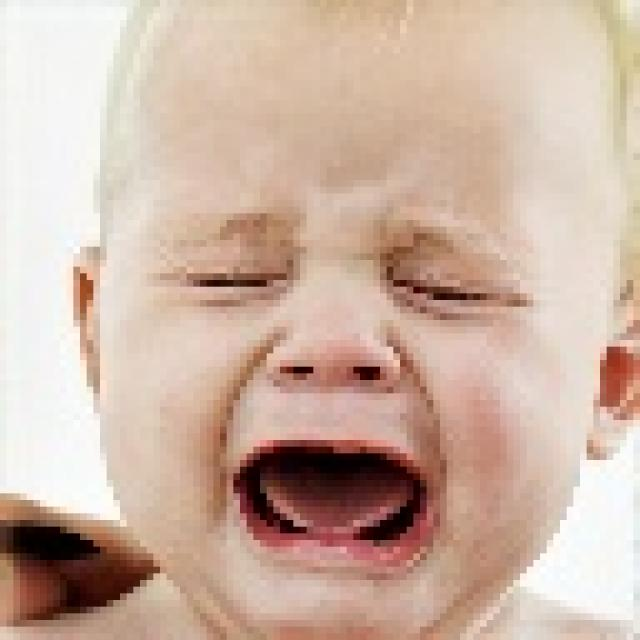sad: (86, 14, 608, 637)
